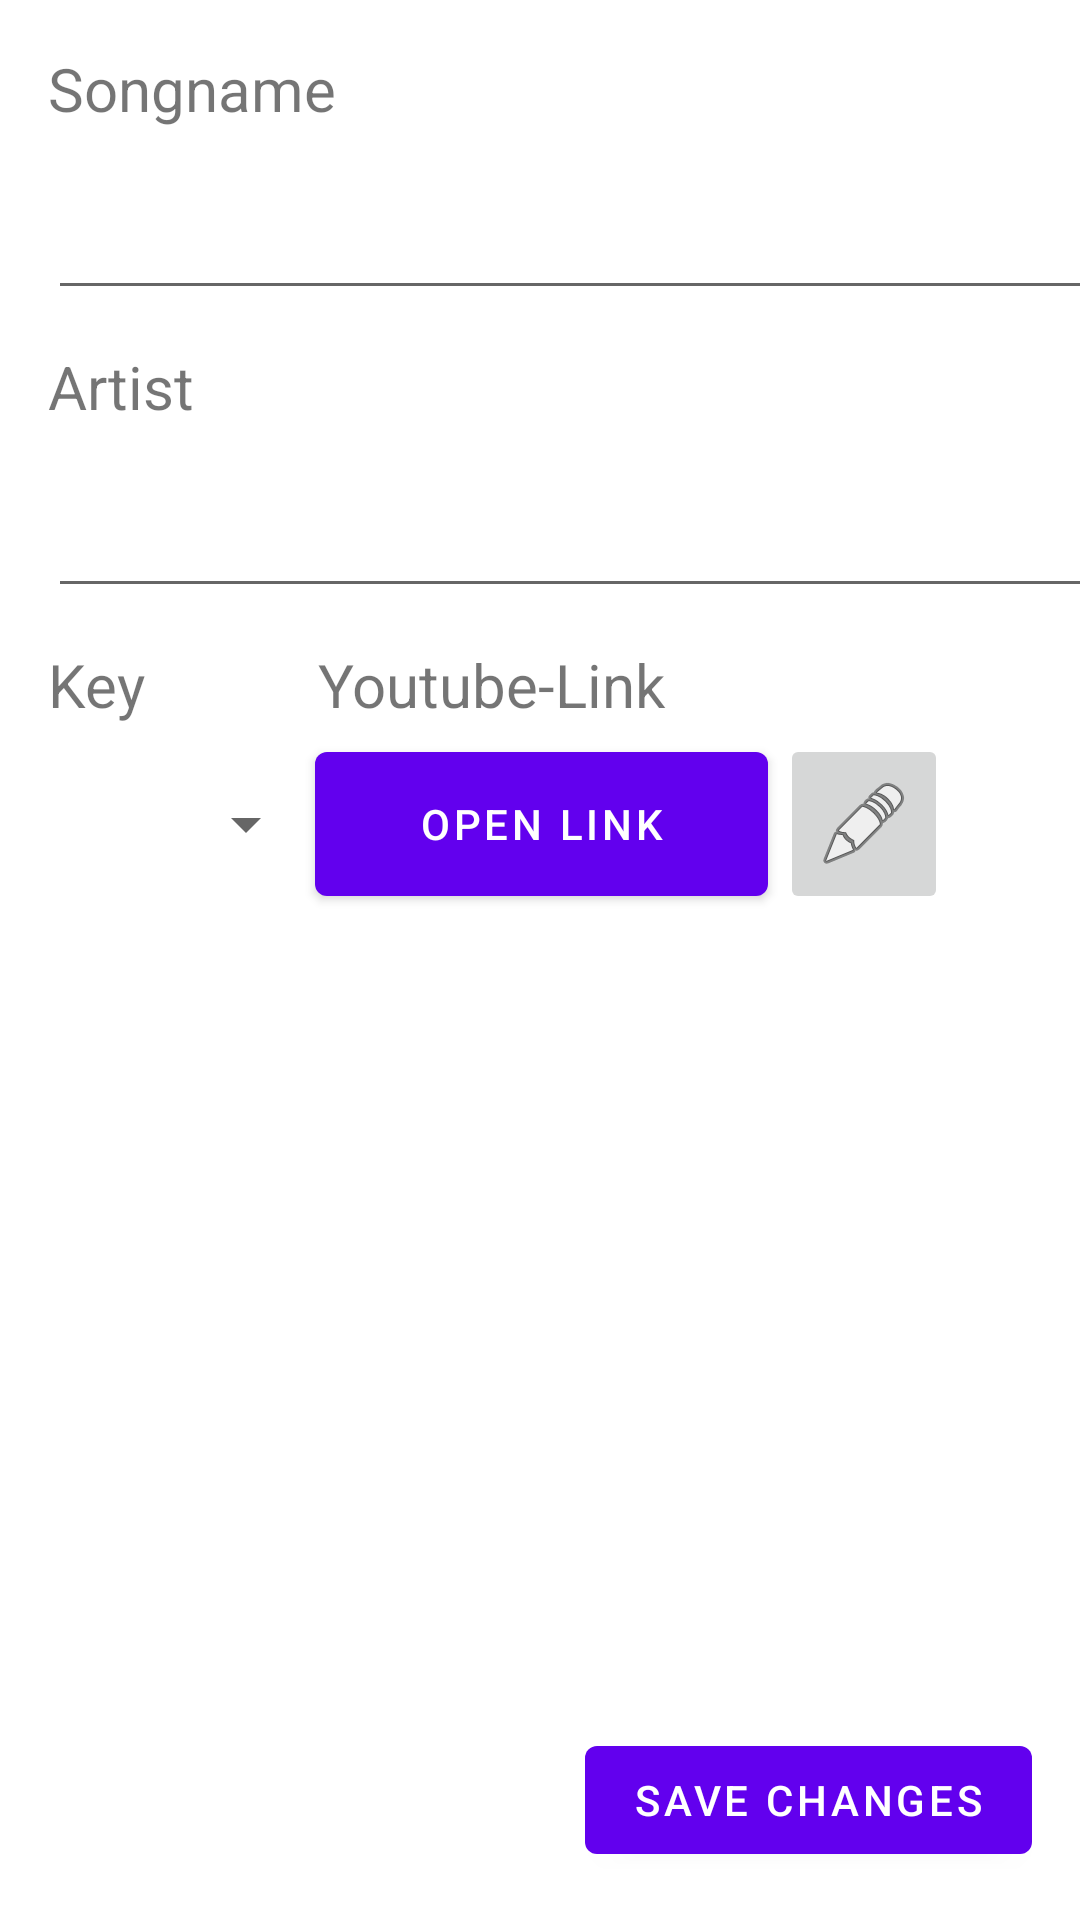

Icon bounding boxes for this 1080*1920 phone screenshot, format (x1, y1, x2, y2):
edit: (792, 752, 936, 896)
